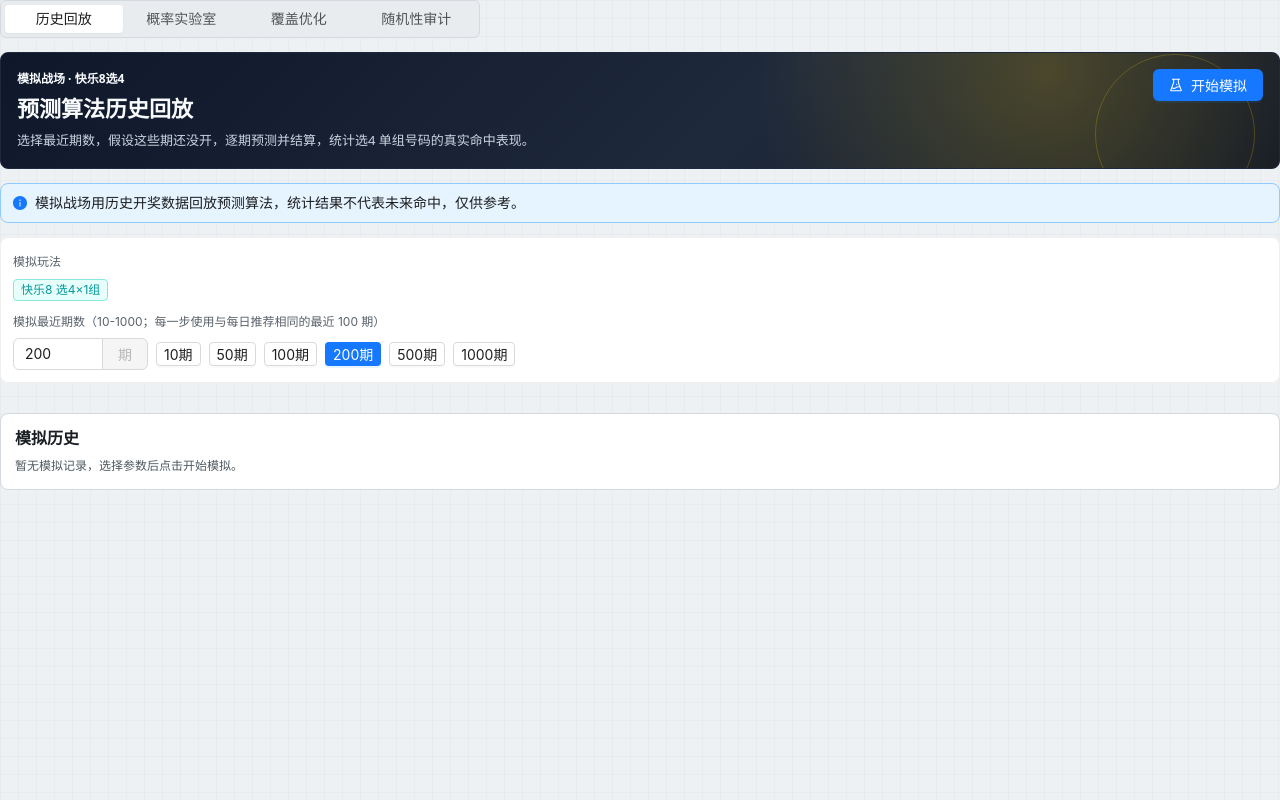
SimulationPanel › runs a KL8 pick-4 simulation and shows stats
This screenshot has width=1280, height=800.
Expected: the text "暂无模拟记录，选择参数后点击开始模拟。" is shown, [15, 457, 243, 474]
Click the button "开始模拟". click: point(1208, 85)
box: [1153, 69, 1263, 101]
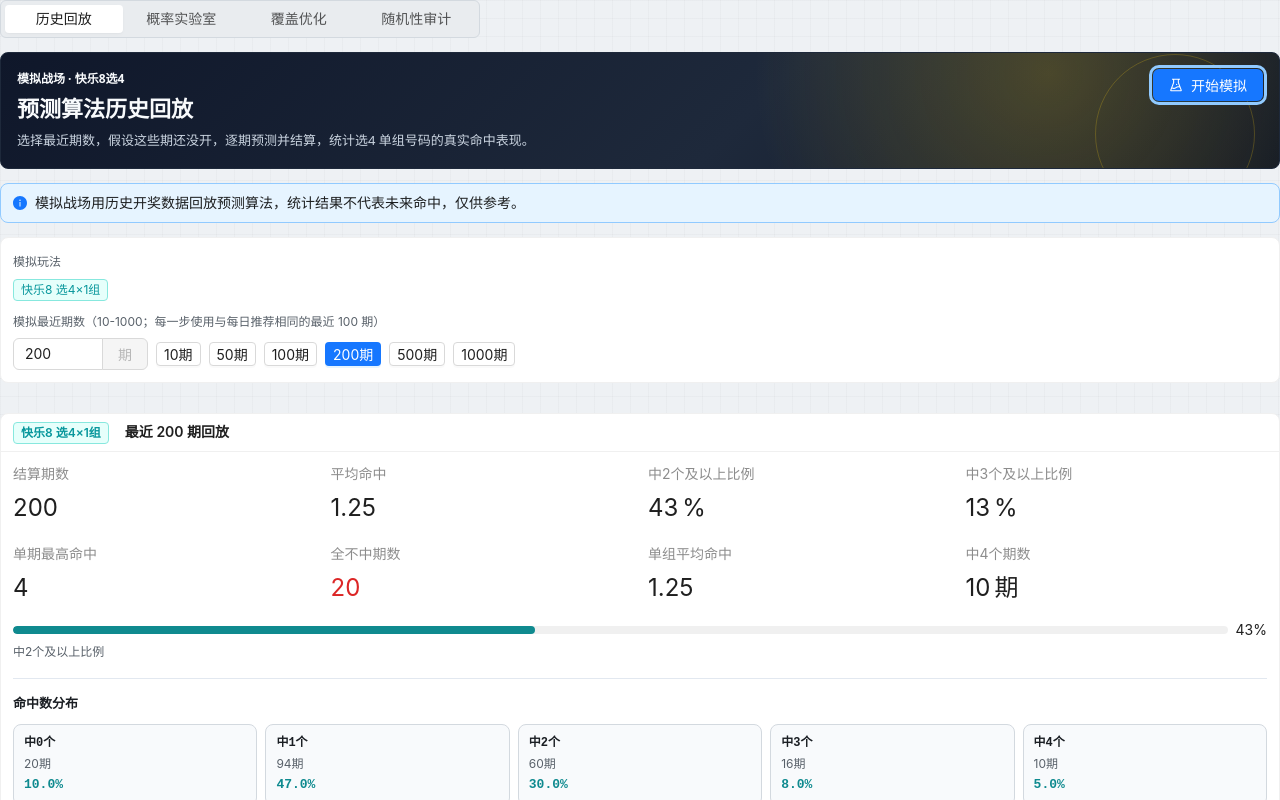
Now the text "中3个及以上比例" is shown, box [966, 465, 1072, 482]
Now the text "13" is shown, box [966, 493, 990, 522]
Now the text "中4个" is shown, box [1034, 736, 1065, 750]
